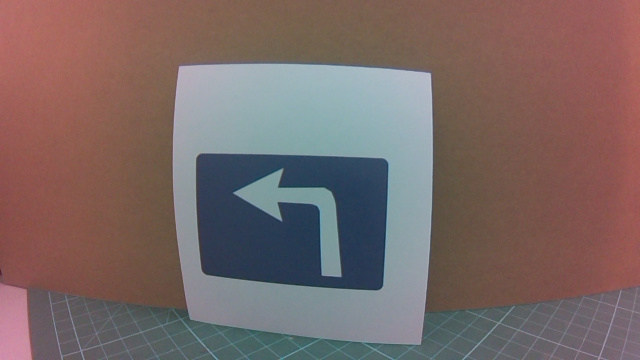left: (183, 142, 415, 303)
